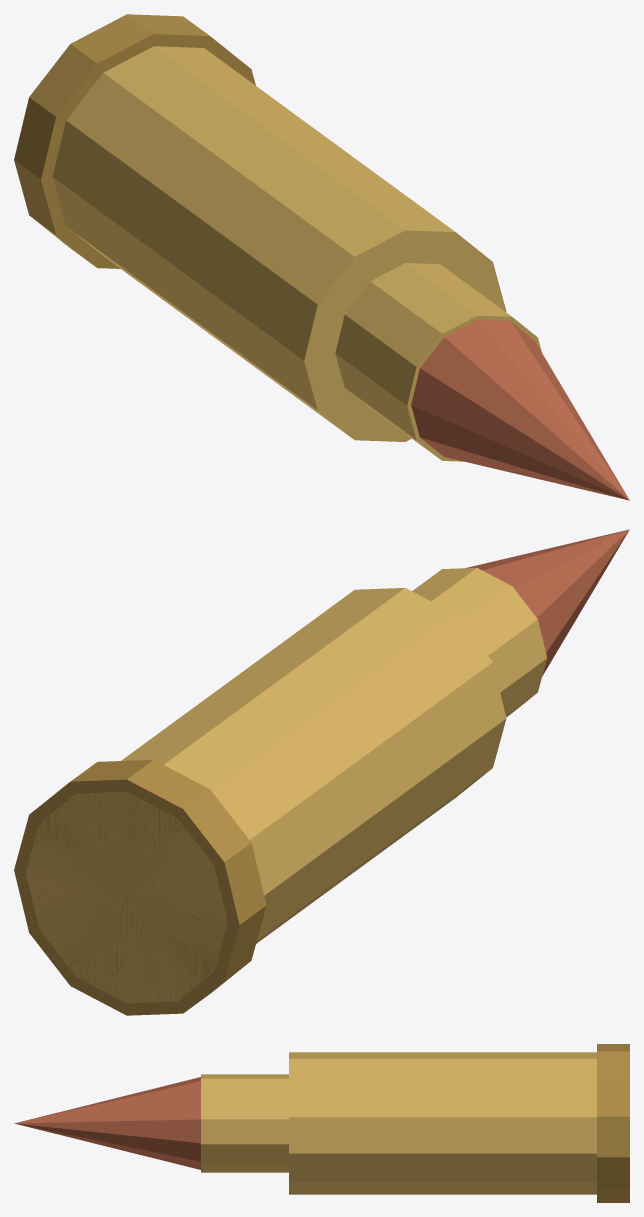
File: bullet_rifle.obj
3 views of the same model, one above another, from view 1: azimuth 30°, elevation 25°; view 2: azimuth 150°, elevation 25°; view 3: azimuth 270°, elevation 25° (orthographic). The views are drawn at different scales.
Parts seen in each view (by area): view 1: bullet_rifle; view 2: bullet_rifle; view 3: bullet_rifle.
Boxes of the visible parts, x1=… form: bullet_rifle: x1=14, y1=14, x2=629, y2=500; bullet_rifle: x1=14, y1=529, x2=629, y2=1015; bullet_rifle: x1=14, y1=1044, x2=629, y2=1202.
Size of the model in its own units: 0.29 by 0.29 by 1.12.
Materials: 1 (1 with a texture image).
